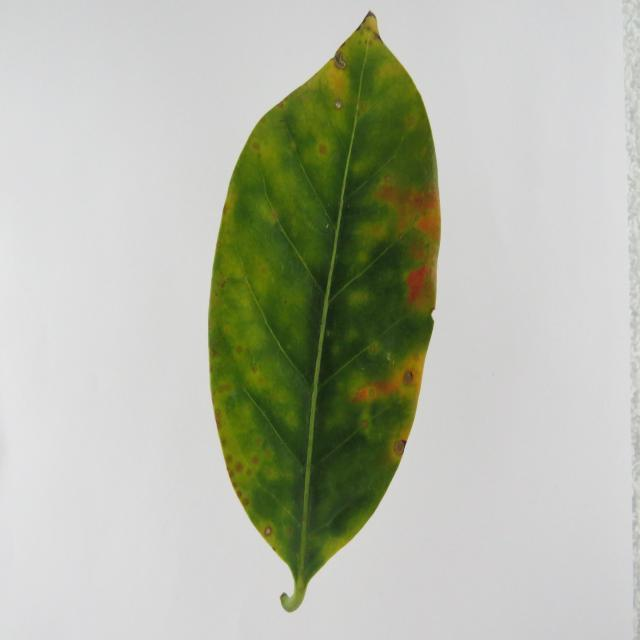DeficienciaNutricional-Fosforo: (209, 13, 441, 612)
